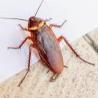cockroach: (28, 15, 66, 75)
